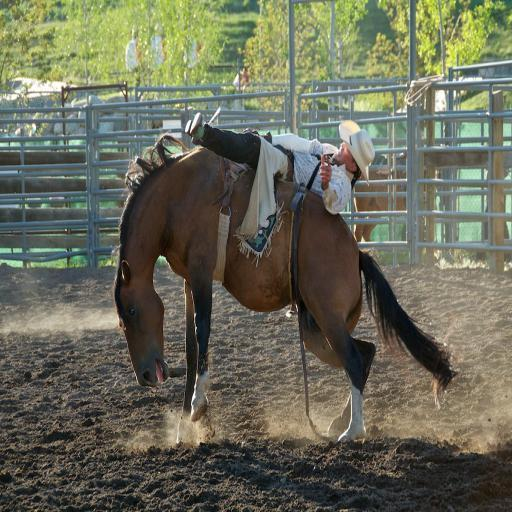horse: (111, 130, 459, 446), (350, 149, 439, 242)
